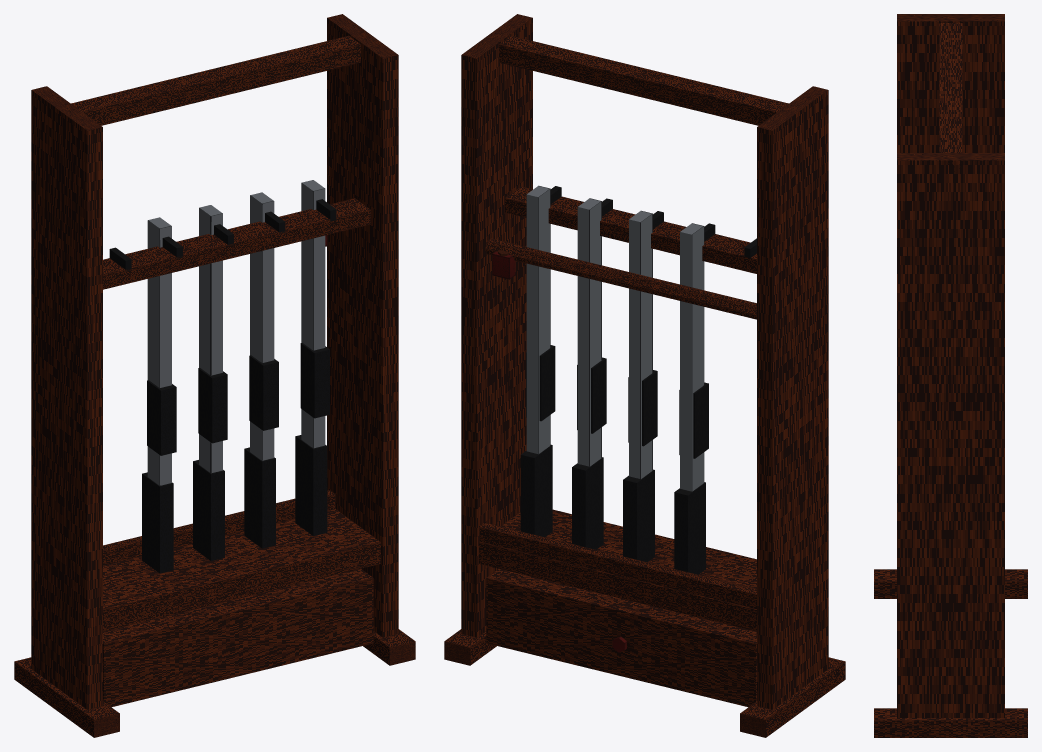
The model's file is weapons_rack_derelict_decay.glb.
The picture shows the model from 3 angles, left to right: view 1: azimuth 30°, elevation 25°; view 2: azimuth 150°, elevation 25°; view 3: azimuth 270°, elevation 25°; orthographic projection. The views are drawn at different scales.
Visible parts, largest first — view 1: weapons_rack_derelict_decay; view 2: weapons_rack_derelict_decay; view 3: weapons_rack_derelict_decay.
Part boxes in pixels (x1,y1,x2,y2): weapons_rack_derelict_decay: (14, 14, 415, 737); weapons_rack_derelict_decay: (444, 14, 845, 737); weapons_rack_derelict_decay: (874, 14, 1027, 737).
Bounding box in the file's own units: 0.93 × 1.65 × 0.4.
Materials: 5 (5 with a texture image).
